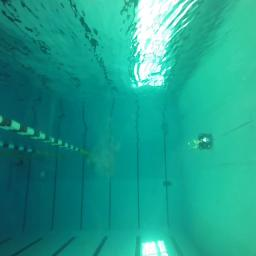Full: (163, 180, 172, 186)
front: (198, 138, 212, 149)
